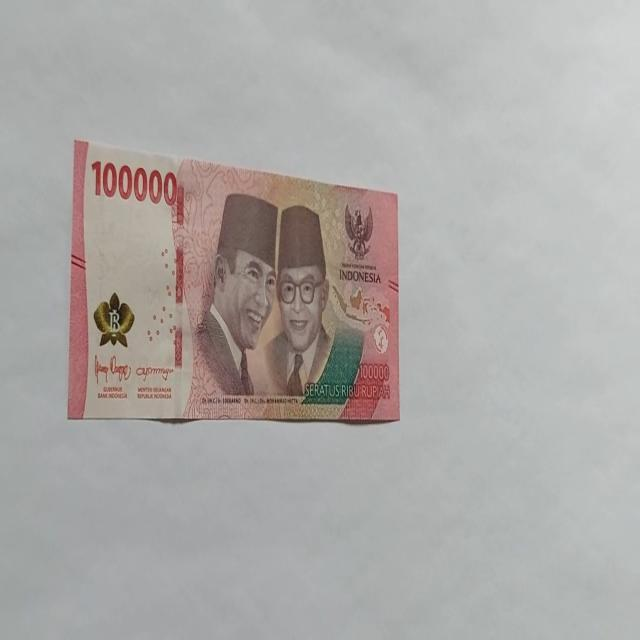seratus ribu rupiah: (68, 138, 400, 424)
